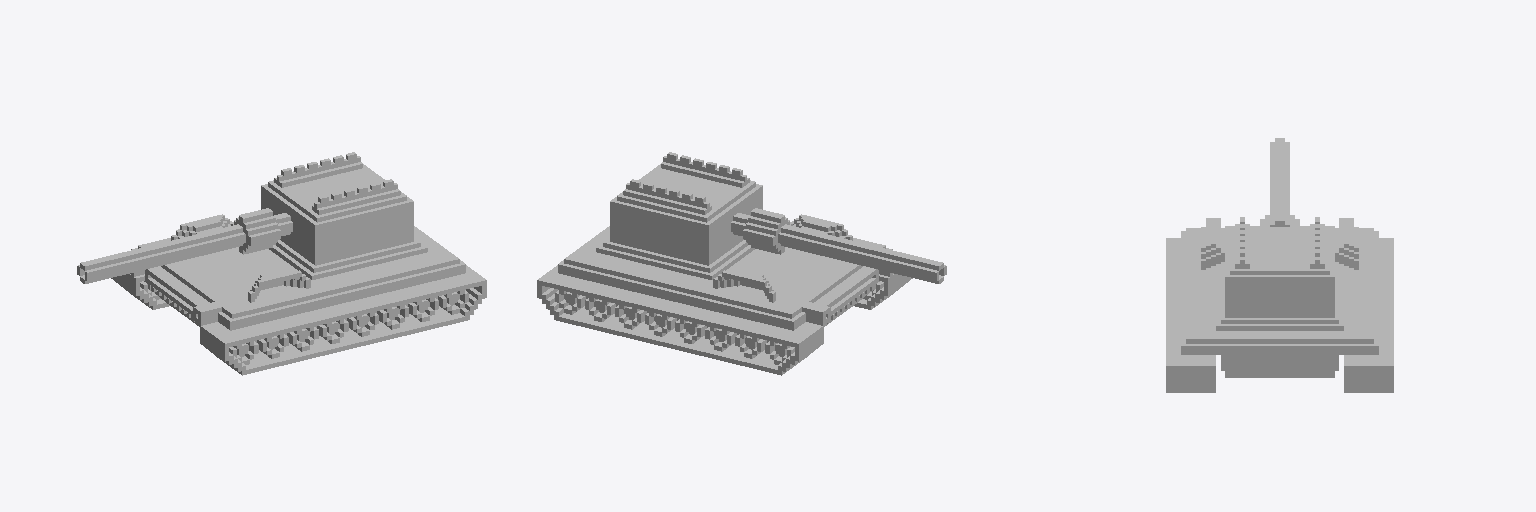
File: Busytankio Scout Tank.obj
3 renders of one model, left to right at view 1: azimuth 30°, elevation 25°; view 2: azimuth 150°, elevation 25°; view 3: azimuth 270°, elevation 25°, orthographic.
Visible parts, largest first — view 1: object 1; view 2: object 1; view 3: object 1.
Boxes of the visible parts, <box> form: object 1: <box>77,152,486,375</box>; object 1: <box>537,152,946,375</box>; object 1: <box>1166,138,1393,392</box>.
Bounding box in the file's own units: 8.1 × 2.7 × 4.6.